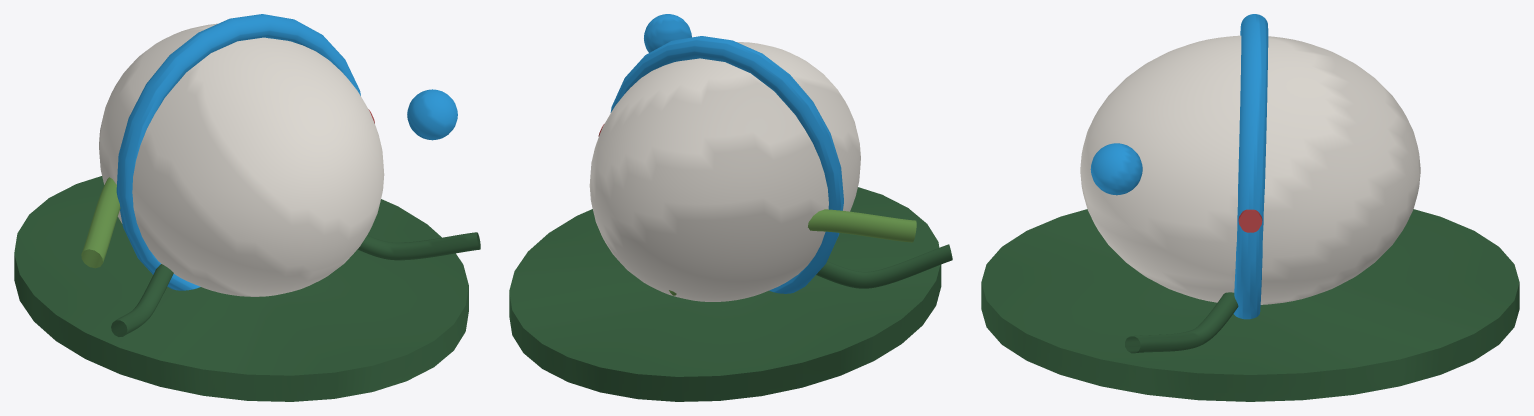
The model's file is 1221_细胞图鉴_内膜.glb.
The picture shows the model from 3 angles, left to right: view 1: azimuth 30°, elevation 25°; view 2: azimuth 150°, elevation 25°; view 3: azimuth 270°, elevation 25°; orthographic projection. The views are drawn at different scales.
Visible parts, largest first — view 1: card_1221; view 2: card_1221; view 3: card_1221.
Boxes of the visible parts, <box> form: card_1221: <box>14,14,480,401</box>; card_1221: <box>509,14,952,401</box>; card_1221: <box>981,14,1519,401</box>.
Bounding box in the file's own units: 1.39 × 1 × 1.71.
